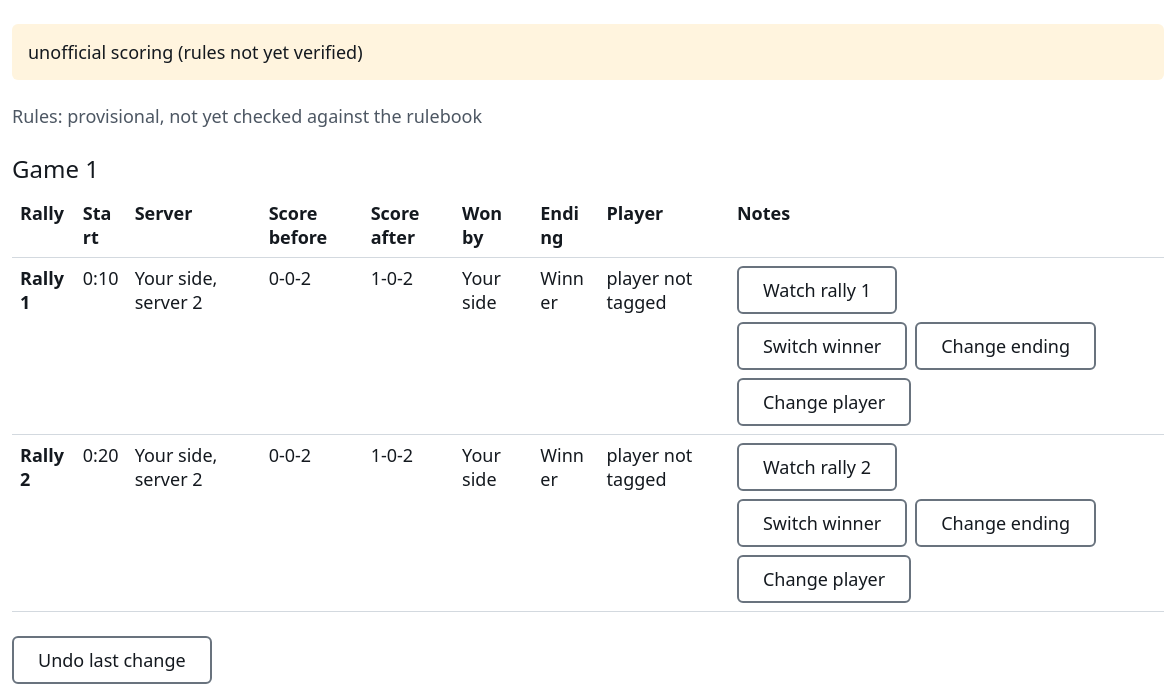
Test case: rally corrections on the score sheet (ST-032) › a refused correction says why and leaves the sheet as it was
This screenshot has width=1164, height=697.
Click the button with aria-label "Switch winner, rally 2, to the other side" at (822, 523), box [737, 499, 907, 547]
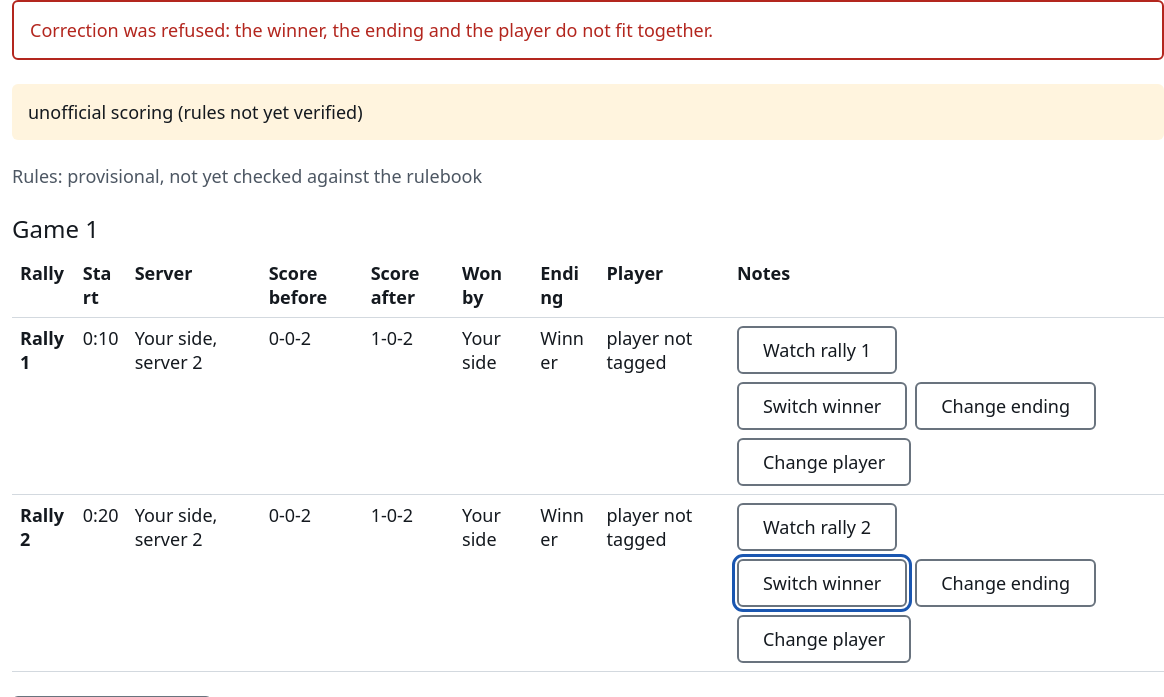
Now the message shows "Correction was refused", box [30, 18, 713, 42]
